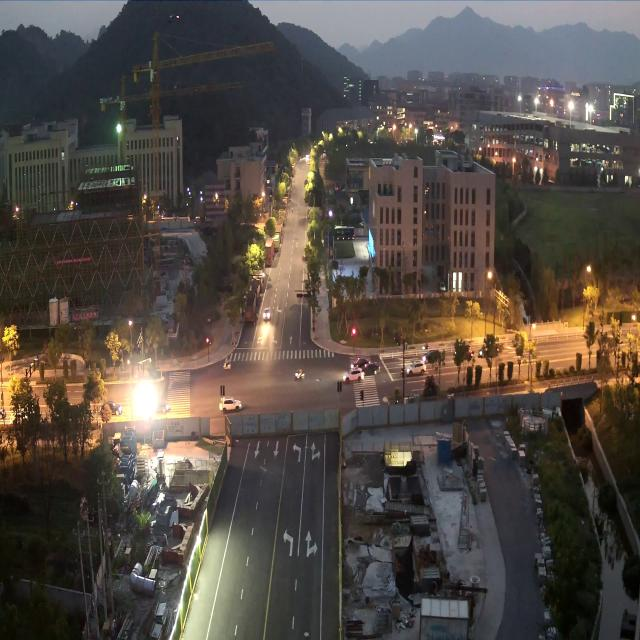drone: (167, 14, 179, 23)
